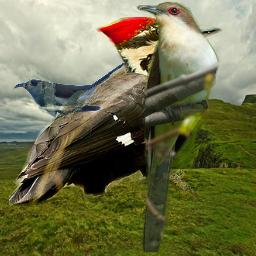Cuckoo: (136, 1, 221, 252), (14, 61, 128, 118)
Woodpecker: (9, 17, 226, 207)
